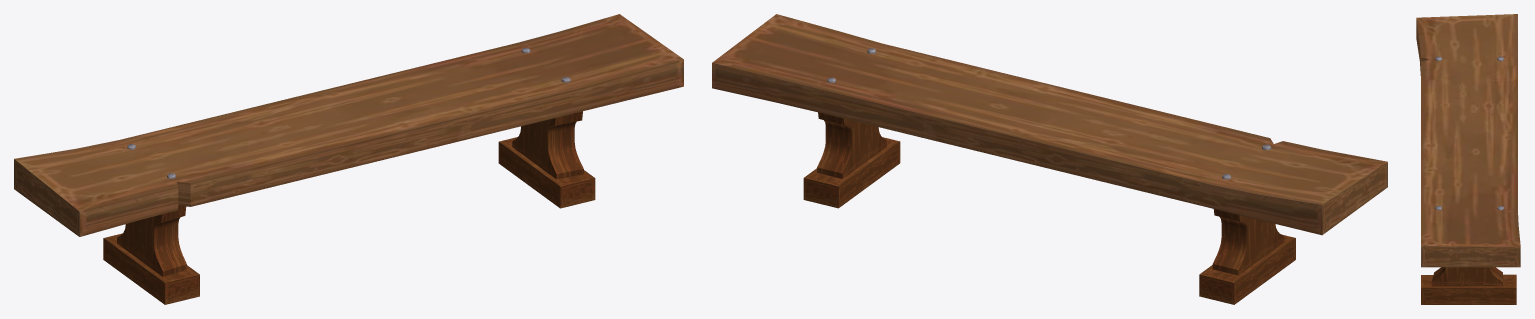
The model's file is prop_bench.glb.
3 renders of one model, left to right at view 1: azimuth 30°, elevation 25°; view 2: azimuth 150°, elevation 25°; view 3: azimuth 270°, elevation 25°, orthographic. The views are drawn at different scales.
Parts seen in each view (by area): view 1: Bench; view 2: Bench; view 3: Bench.
Part boxes in pixels (<box>): Bench: <box>14,14,683,304</box>; Bench: <box>712,14,1387,304</box>; Bench: <box>1416,14,1520,304</box>.
Bounding box in the file's own units: 2.78 × 0.5332 × 0.5343.
2 materials, 2 textured.
